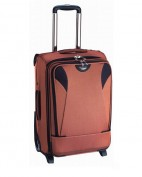luggage: (33, 4, 114, 164)
